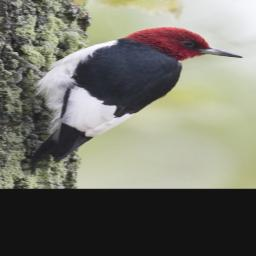Woodpecker: (10, 25, 255, 172)
